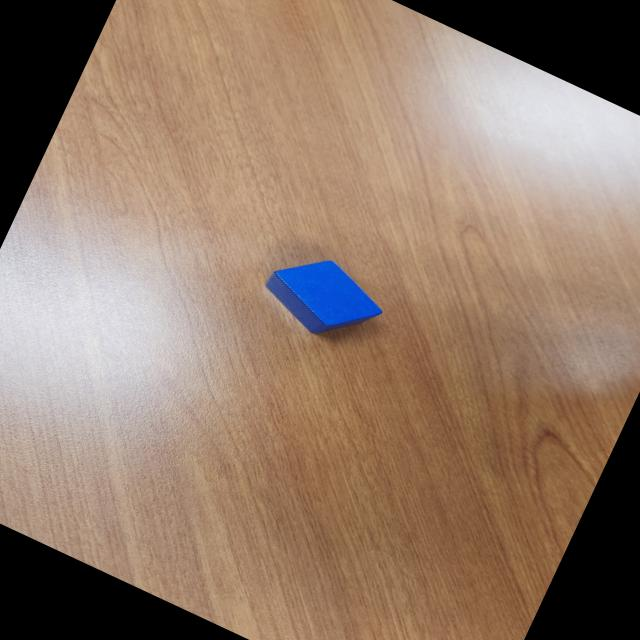blue: (254, 238, 394, 358)
